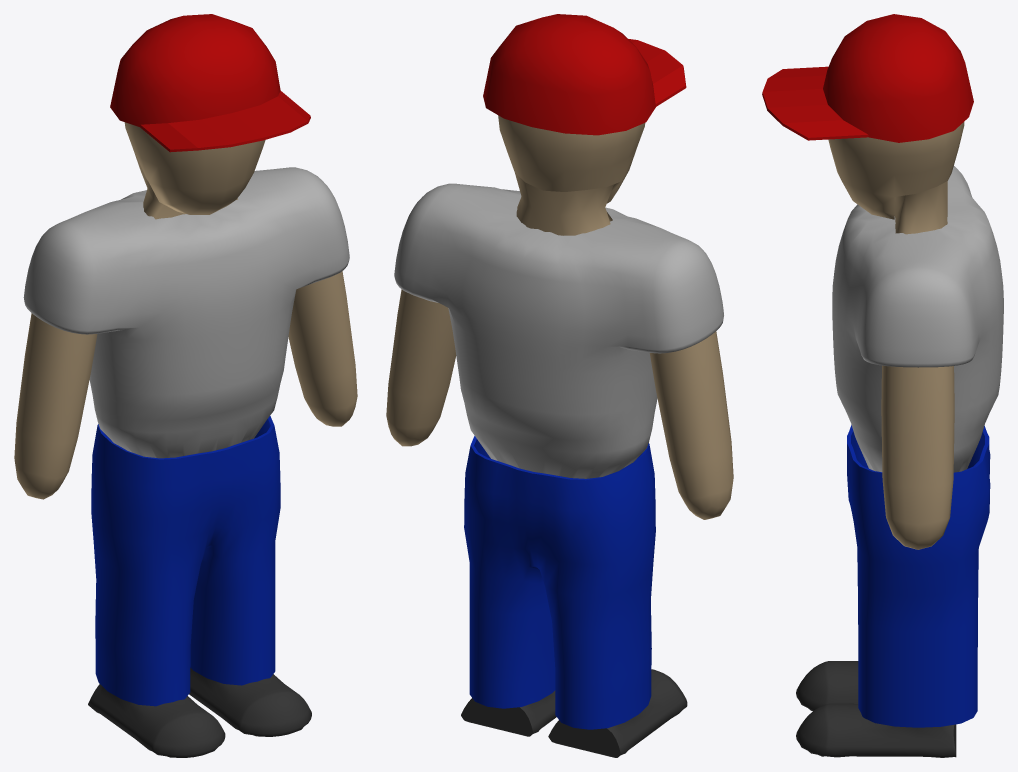
Rendered from Target 3.fbx.
3 views of the same model, side by side, from view 1: azimuth 30°, elevation 25°; view 2: azimuth 150°, elevation 25°; view 3: azimuth 270°, elevation 25° (orthographic).
Visible parts, largest first — view 1: Torso1, Pants1, Target3, R_Arm1, L_Arm1, Head1, R_Shoe1, L_Shoe1; view 2: Torso1, Pants1, Target3, Head1, R_Arm1, L_Arm1, R_Shoe1, L_Shoe1; view 3: Torso1, Pants1, Target3, L_Arm1, Head1, L_Shoe1, R_Shoe1.
Part boxes in pixels (x1=…): Torso1: x1=23, y1=167, x2=349, y2=458; Pants1: x1=91, y1=416, x2=280, y2=706; Target3: x1=110, y1=14, x2=310, y2=152; R_Arm1: x1=14, y1=313, x2=97, y2=499; L_Arm1: x1=288, y1=271, x2=357, y2=426; Head1: x1=124, y1=122, x2=265, y2=219; R_Shoe1: x1=88, y1=684, x2=225, y2=757; L_Shoe1: x1=189, y1=668, x2=311, y2=736; Torso1: x1=394, y1=183, x2=723, y2=478; Pants1: x1=464, y1=436, x2=655, y2=729; Target3: x1=483, y1=14, x2=686, y2=135; Head1: x1=498, y1=115, x2=645, y2=235; R_Arm1: x1=649, y1=331, x2=733, y2=519; L_Arm1: x1=386, y1=289, x2=456, y2=446; R_Shoe1: x1=548, y1=669, x2=687, y2=757; L_Shoe1: x1=461, y1=690, x2=556, y2=736; Torso1: x1=832, y1=166, x2=1003, y2=472; Pants1: x1=847, y1=425, x2=990, y2=727; Target3: x1=762, y1=14, x2=973, y2=142; L_Arm1: x1=881, y1=365, x2=954, y2=549; Head1: x1=828, y1=122, x2=964, y2=234; L_Shoe1: x1=796, y1=703, x2=956, y2=757; R_Shoe1: x1=796, y1=661, x2=858, y2=710.
Size of the model in its own units: 3.07 by 6.09 by 1.91.
